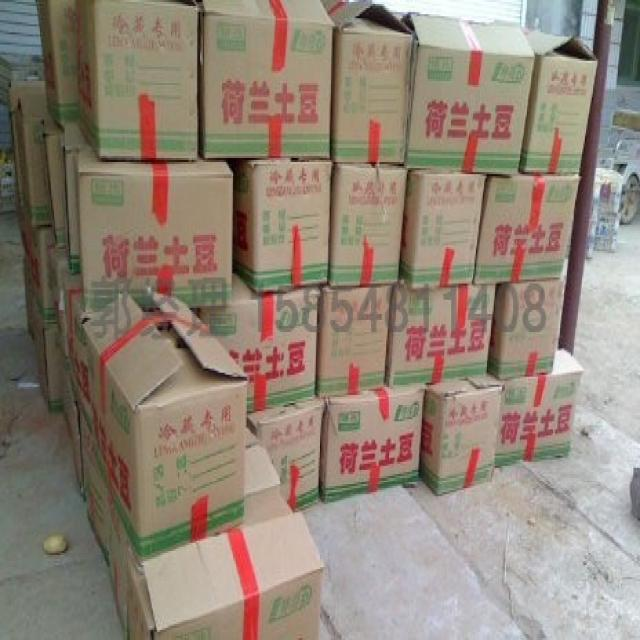box: (75, 286, 247, 556), (106, 440, 324, 638), (74, 144, 234, 310), (398, 12, 538, 173), (76, 1, 199, 160), (192, 269, 318, 413), (323, 1, 417, 164), (225, 160, 332, 293), (385, 270, 498, 385), (318, 383, 425, 501), (471, 173, 580, 282), (520, 26, 596, 172), (496, 348, 585, 470), (400, 163, 485, 289), (421, 367, 503, 496), (329, 162, 409, 286), (248, 395, 324, 512), (316, 286, 394, 395), (487, 277, 564, 379), (6, 79, 54, 231), (39, 117, 89, 250), (35, 0, 78, 132), (17, 197, 59, 323), (79, 413, 114, 556), (60, 343, 82, 498), (36, 309, 64, 408), (65, 269, 83, 412), (49, 248, 70, 355), (64, 144, 81, 271), (23, 280, 37, 343)
